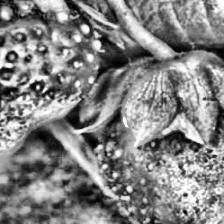Gray Mold: (93, 100, 224, 224), (0, 74, 97, 159)
